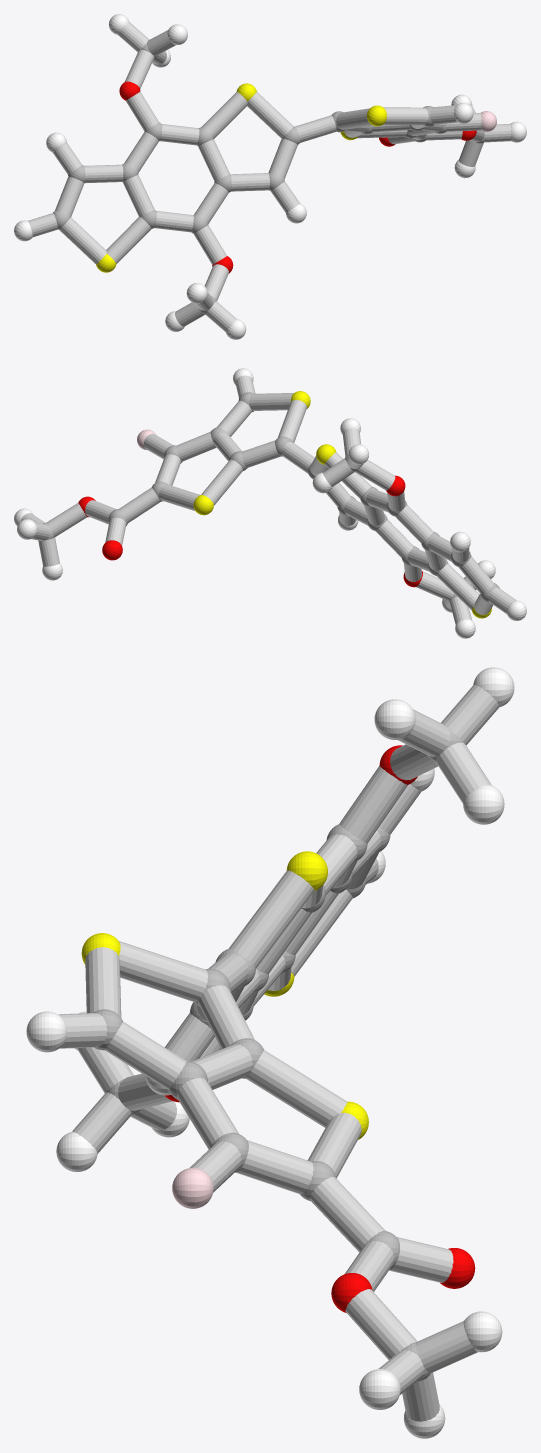
Rendered from Dimethoxy_Benzodithiophene_Phi_15_Theta_270_Methylcarbonyl_3_Fluoro_Thienothiophene.glb.
3 renders of one model, top to bottom at view 1: azimuth 30°, elevation 25°; view 2: azimuth 150°, elevation 25°; view 3: azimuth 270°, elevation 25°, orthographic. The views are drawn at different scales.
Visible parts, largest first — view 1: grp15205, grp8689, grp1, grp7241, grp13395; view 2: grp15205, grp8689, grp1, grp7241, grp13395; view 3: grp15205, grp8689, grp1, grp7241, grp13395, grp14843.
Boxes of the visible parts, <box> form: grp15205: <box>28,22,511,331</box>; grp8689: <box>14,14,526,339</box>; grp1: <box>53,43,484,313</box>; grp7241: <box>96,83,386,272</box>; grp13395: <box>119,81,476,273</box>; grp15205: <box>20,375,516,624</box>; grp8689: <box>14,368,526,638</box>; grp1: <box>42,392,499,602</box>; grp7241: <box>193,391,491,618</box>; grp13395: <box>78,475,422,587</box>; grp15205: <box>58,684,499,1421</box>; grp8689: <box>26,667,514,1438</box>; grp1: <box>93,729,463,1381</box>; grp7241: <box>81,851,368,1139</box>; grp13395: <box>164,745,475,1312</box>; grp14843: <box>172,1168,213,1208</box>.
Size of the model in its own units: 16.94 by 7.85 by 7.07.
